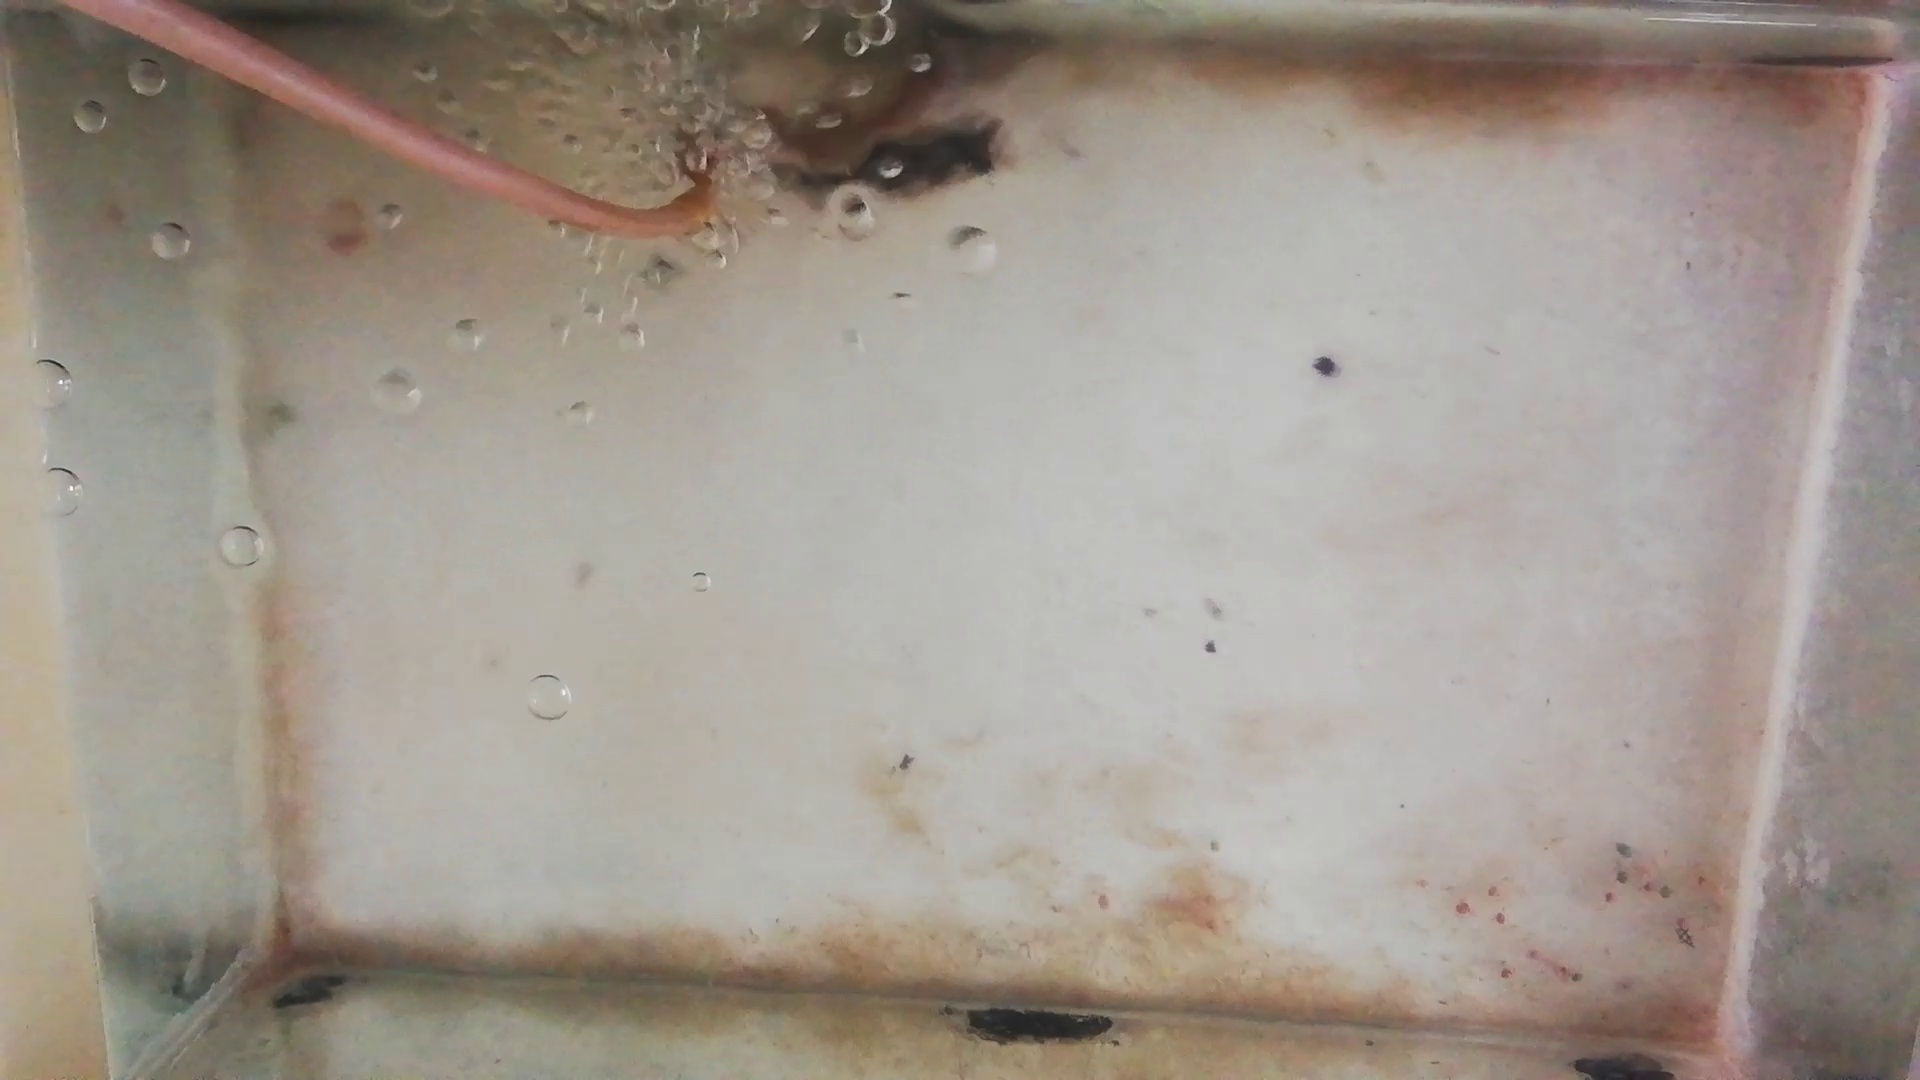fish: (795, 116, 1011, 204), (756, 51, 948, 144)
